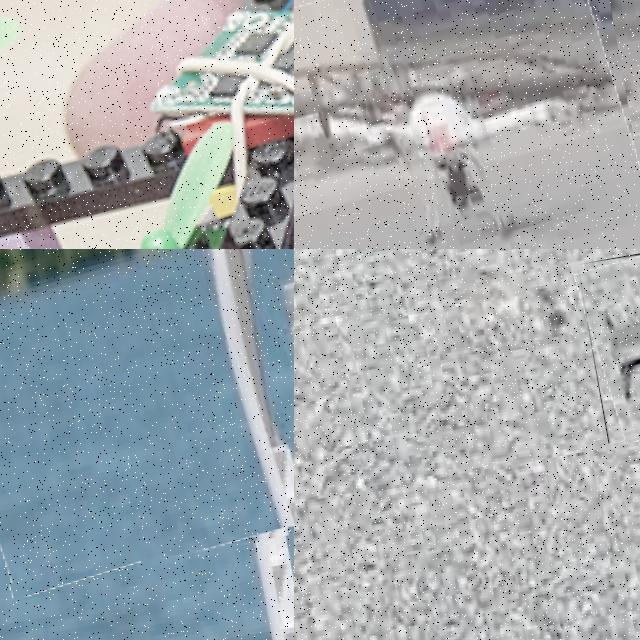0: (294, 0, 640, 249), (576, 249, 640, 443)
drone: (0, 249, 294, 591), (0, 0, 294, 249)
